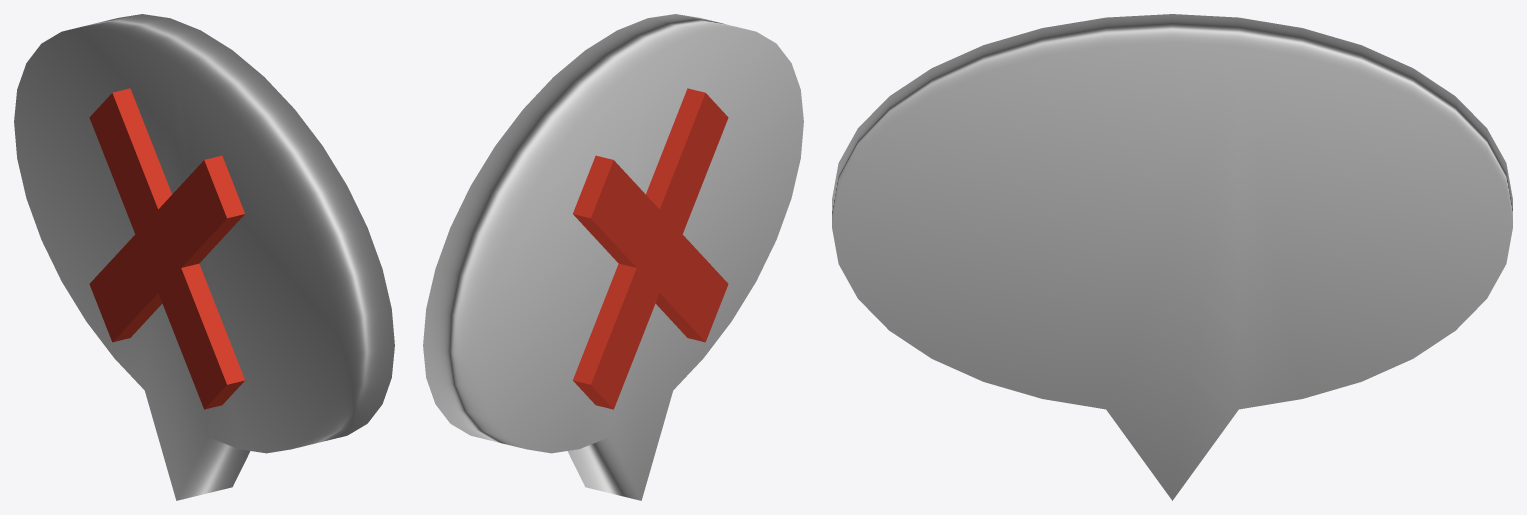
File: popup neg.fbx
3 views of the same model, side by side, from view 1: azimuth 30°, elevation 25°; view 2: azimuth 150°, elevation 25°; view 3: azimuth 270°, elevation 25° (orthographic). The views are drawn at different scales.
Parts seen in each view (by area): view 1: Cylinder; view 2: Cylinder; view 3: Cylinder.
Boxes of the visible parts, x1,y1,x2,y2 form: Cylinder: (14,14,394,500); Cylinder: (423,14,803,500); Cylinder: (832,14,1512,500).
Size of the model in its own units: 26.44 by 148 by 200.
